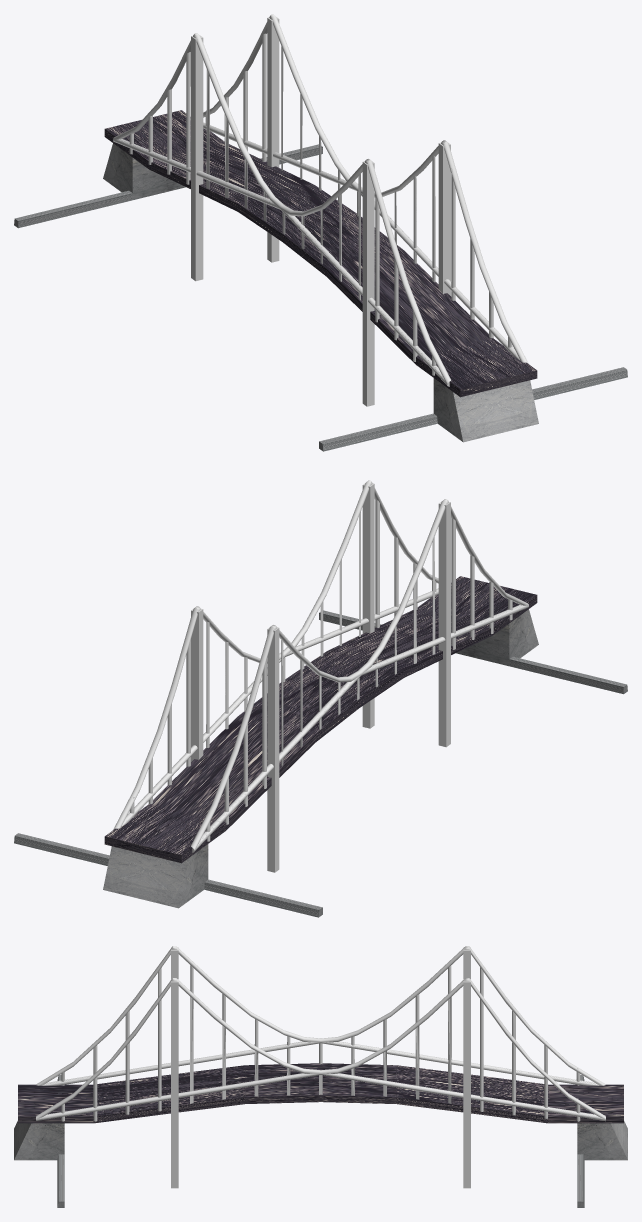
Rendered from busan.glb.
3 renders of one model, top to bottom at view 1: azimuth 30°, elevation 25°; view 2: azimuth 150°, elevation 25°; view 3: azimuth 270°, elevation 25°, orthographic. The views are drawn at different scales.
Visible parts, largest first — view 1: Object_4, Object_16, Object_23, Object_21, Object_18, Object_9, Object_13, Object_7, Object_11, Object_90, Object_44; view 2: Object_4, Object_18, Object_23, Object_21, Object_16, Object_13, Object_9, Object_11, Object_7, Object_66, Object_40; view 3: Object_4, Object_21, Object_23, Object_16, Object_18, Object_7, Object_11, Object_40, Object_44, Object_48, Object_62.
Boxes of the visible parts, x1,y1,x2,y2 form: Object_4: (104, 110, 537, 397); Object_16: (319, 367, 627, 451); Object_23: (113, 33, 450, 386); Object_21: (190, 14, 528, 363); Object_18: (14, 143, 322, 228); Object_9: (191, 36, 203, 281); Object_13: (362, 161, 374, 406); Object_7: (267, 17, 279, 262); Object_11: (438, 142, 450, 295); Object_90: (186, 52, 190, 184); Object_44: (262, 33, 266, 161); Object_4: (104, 576, 537, 863); Object_18: (14, 833, 322, 917); Object_23: (191, 499, 528, 852); Object_21: (113, 480, 451, 829); Object_16: (319, 609, 627, 694); Object_13: (438, 502, 450, 747); Object_9: (267, 627, 279, 872); Object_11: (362, 483, 374, 728); Object_7: (191, 608, 203, 761); Object_66: (451, 518, 455, 649); Object_40: (375, 500, 379, 627); Object_4: (18, 1063, 623, 1123); Object_21: (36, 978, 605, 1120); Object_23: (36, 946, 605, 1085); Object_16: (14, 1075, 64, 1207); Object_18: (577, 1075, 627, 1207); Object_7: (463, 979, 470, 1188); Object_11: (171, 979, 178, 1188); Object_40: (158, 999, 161, 1111); Object_44: (480, 999, 483, 1111); Object_48: (448, 997, 451, 1103); Object_62: (190, 997, 193, 1103).
Size of the model in its own units: 7.91 by 6.08 by 16.21.
Materials: 3 (2 with a texture image).
